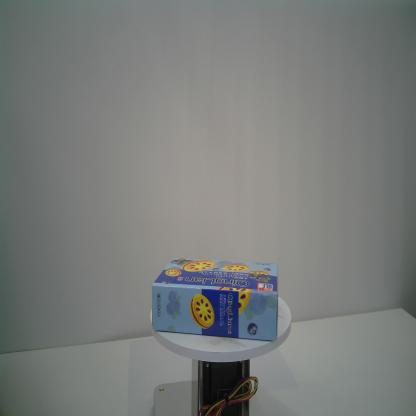Dessert: (152, 257, 279, 342)
